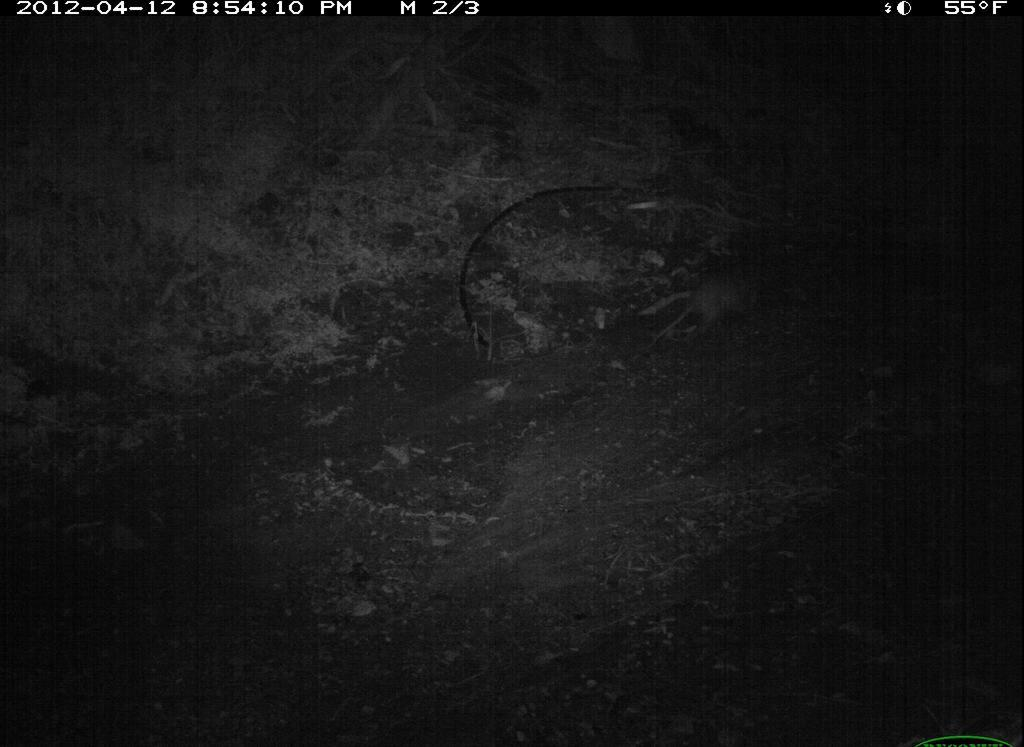opossum: (644, 257, 786, 349)
